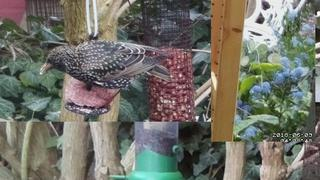starling: (40, 40, 171, 90)
